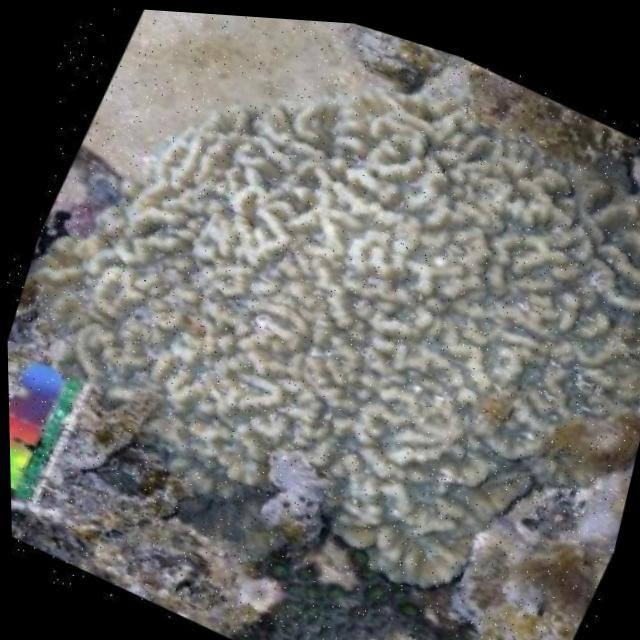Bleached Coral: (79, 41, 640, 551)
